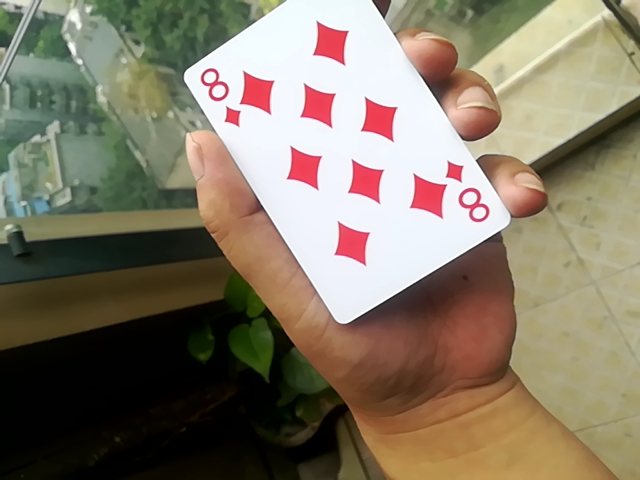fk 8: (182, 8, 504, 343)
